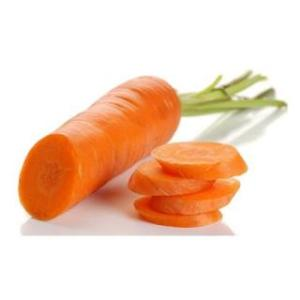carrot: (19, 76, 183, 222)
